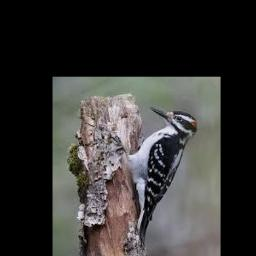Woodpecker: (127, 107, 197, 245)
